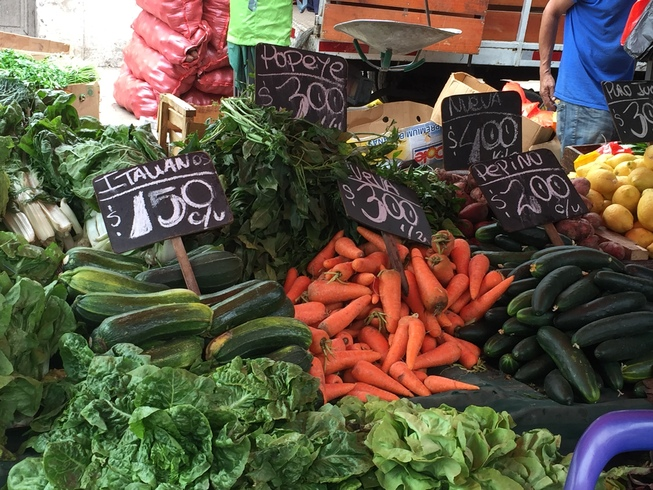precio: (89, 144, 252, 259), (467, 140, 592, 239), (321, 147, 439, 248), (250, 36, 361, 130), (439, 88, 534, 180), (598, 68, 653, 137)
